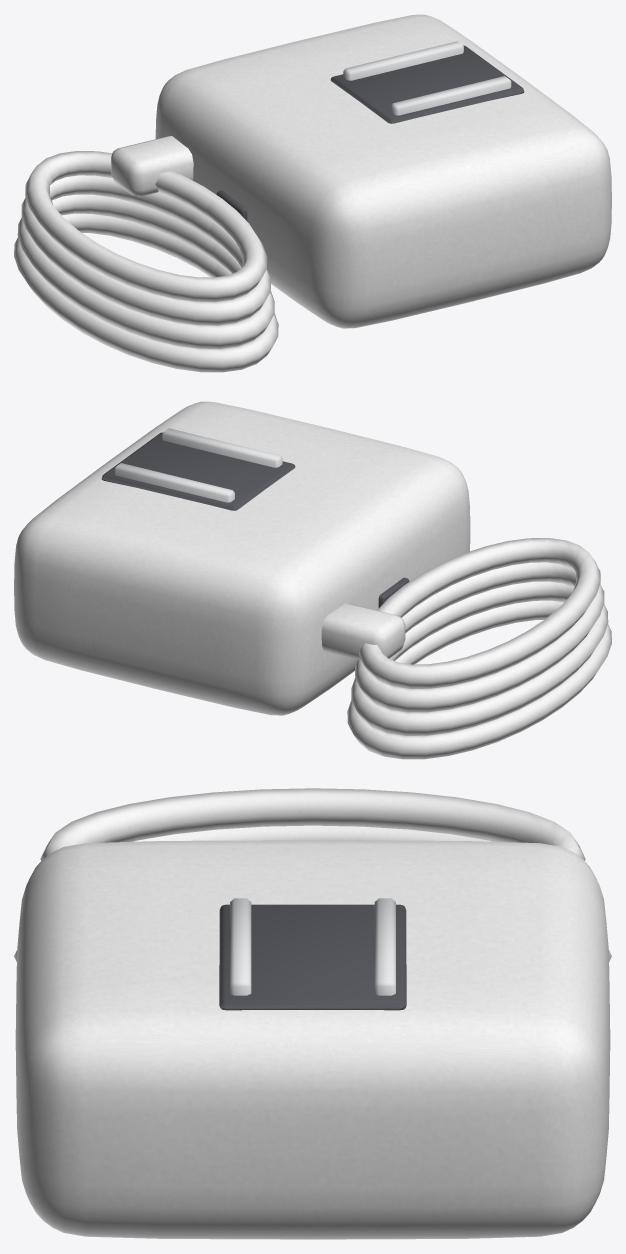
File: charger.glb
The picture shows the model from 3 angles, top to bottom: view 1: azimuth 30°, elevation 25°; view 2: azimuth 150°, elevation 25°; view 3: azimuth 270°, elevation 25°; orthographic projection. The views are drawn at different scales.
Parts seen in each view (by area): view 1: charger_brick, charger_coil3, charger_coil1, charger_coil2, charger_coil0, charger_slot, charger_plug, charger_prong1, charger_prong-1; view 2: charger_brick, charger_coil3, charger_coil1, charger_coil0, charger_coil2, charger_slot, charger_plug, charger_prong-1, charger_prong1; view 3: charger_brick, charger_coil3, charger_slot, charger_coil2, charger_prong1, charger_prong-1.
Part boxes in pixels (x1,y1,x2,y2): charger_brick: [155, 14, 611, 328]; charger_coil3: [25, 151, 267, 301]; charger_coil1: [17, 194, 274, 348]; charger_coil2: [21, 175, 270, 325]; charger_coil0: [14, 213, 278, 372]; charger_slot: [330, 45, 524, 123]; charger_plug: [111, 136, 193, 196]; charger_prong1: [343, 41, 463, 80]; charger_prong-1: [391, 76, 511, 115]; charger_brick: [14, 401, 470, 715]; charger_coil3: [359, 538, 600, 688]; charger_coil1: [351, 581, 608, 735]; charger_coil0: [347, 600, 611, 759]; charger_coil2: [355, 562, 604, 712]; charger_slot: [101, 432, 295, 510]; charger_plug: [321, 603, 405, 660]; charger_prong-1: [162, 428, 282, 467]; charger_prong1: [114, 463, 234, 502]; charger_brick: [15, 840, 610, 1239]; charger_coil3: [40, 788, 585, 860]; charger_slot: [219, 904, 406, 1010]; charger_coil2: [134, 825, 491, 841]; charger_prong1: [374, 898, 395, 995]; charger_prong-1: [230, 898, 251, 995].
Size of the model in its own units: 9.81 by 3.21 by 7.03.
4 materials, 2 textured.
